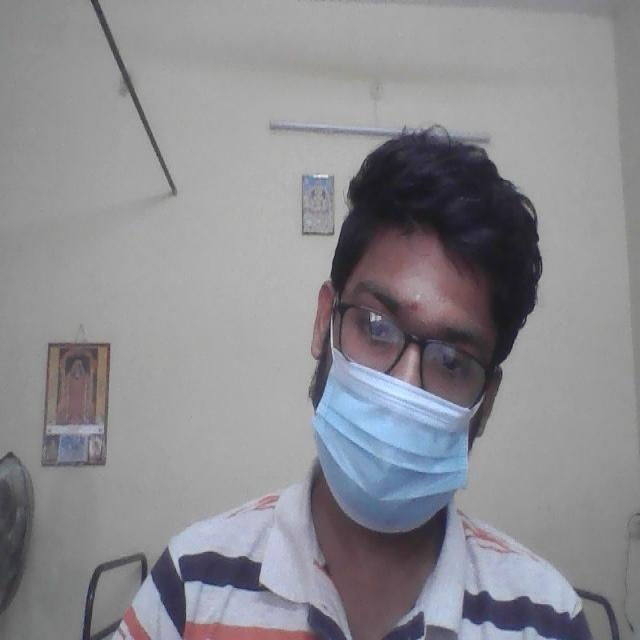Focused: (312, 245, 500, 497)
